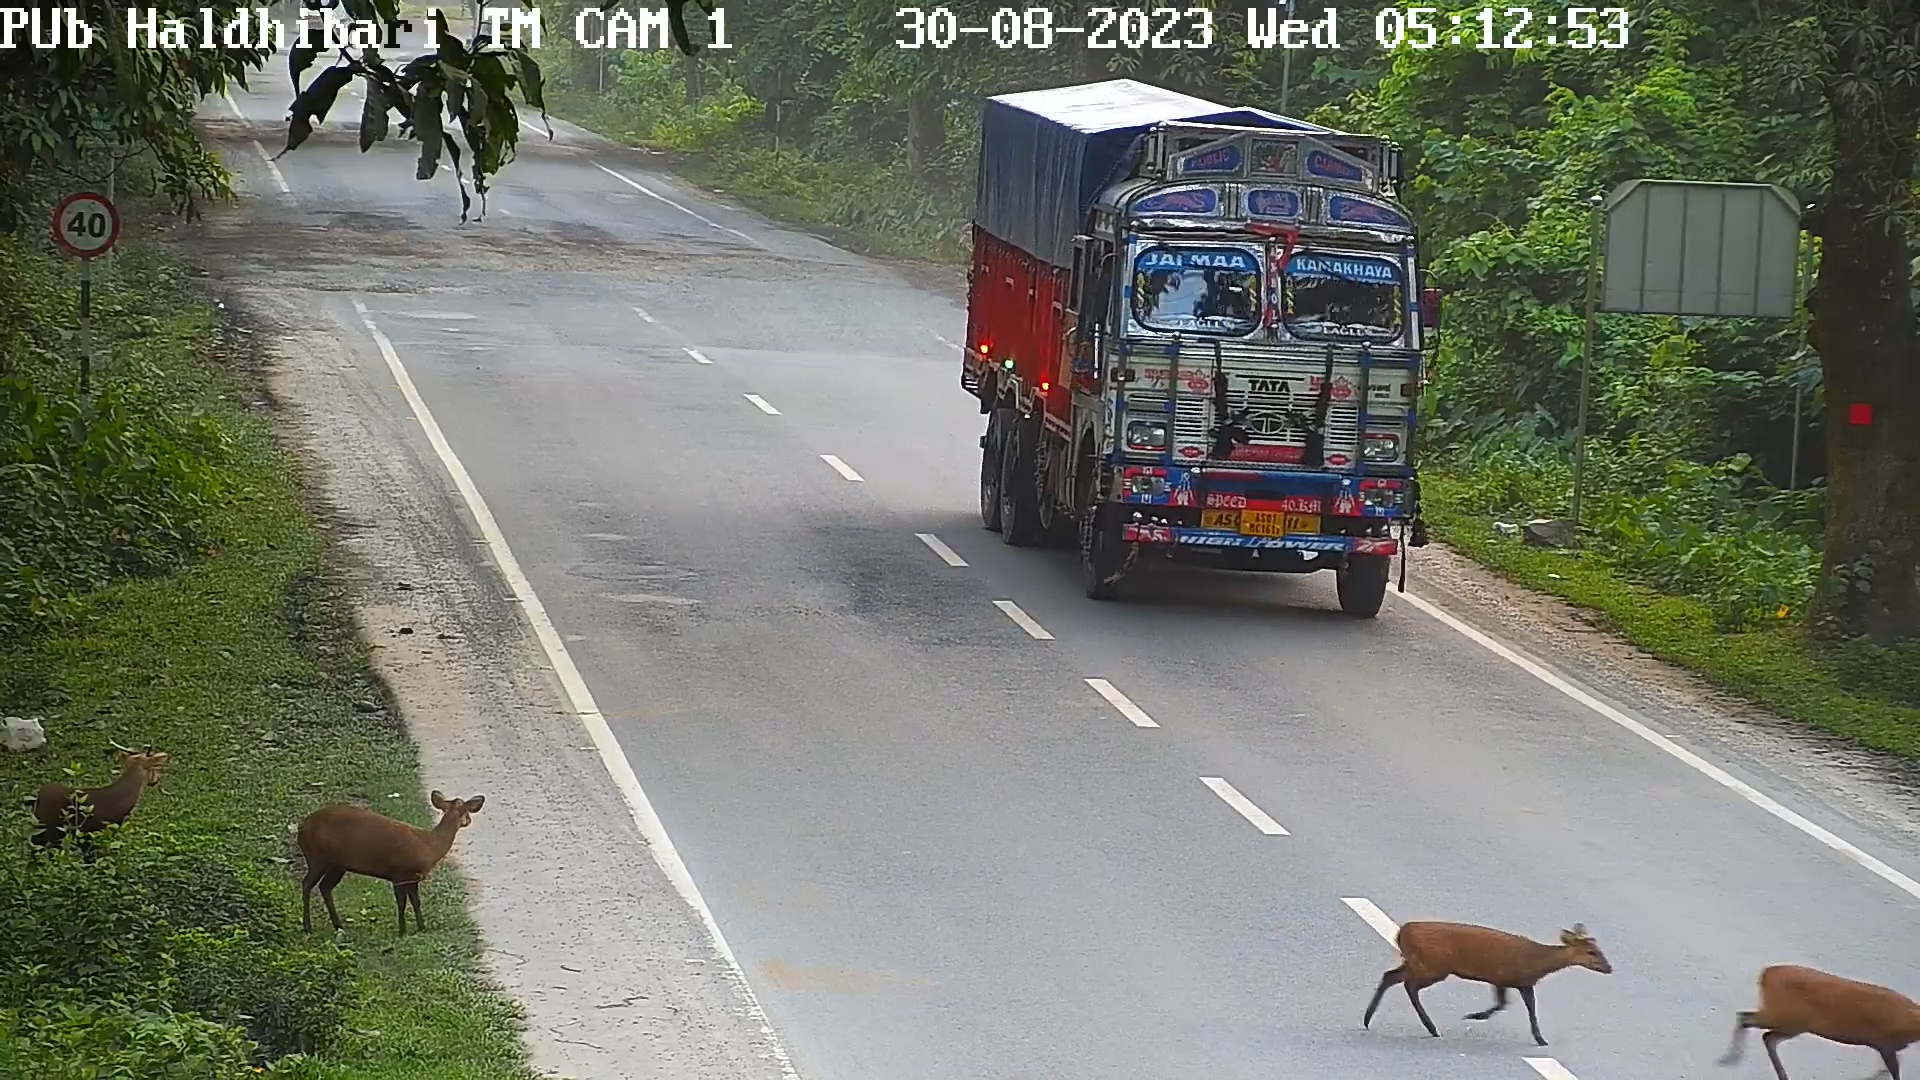deers: (281, 765, 488, 943), (1374, 902, 1615, 1054), (1749, 926, 1920, 1072), (16, 740, 177, 866)
